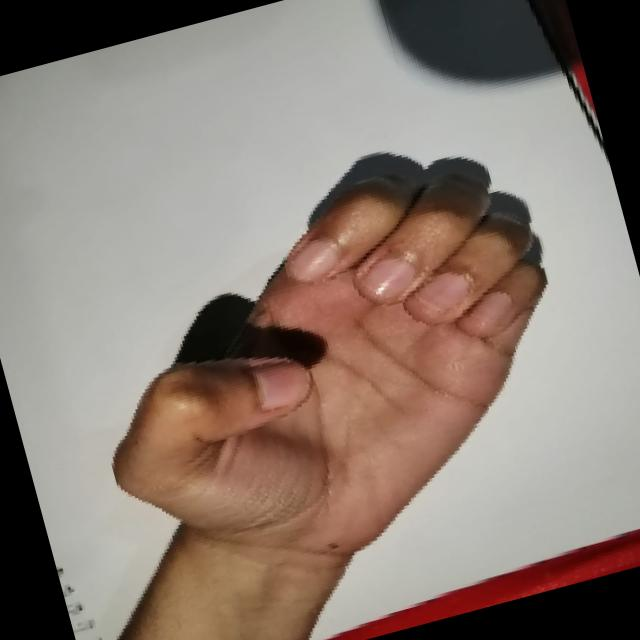Nail: (251, 359, 309, 409), (359, 257, 414, 299), (412, 270, 468, 310), (286, 237, 338, 279), (464, 289, 510, 324)
